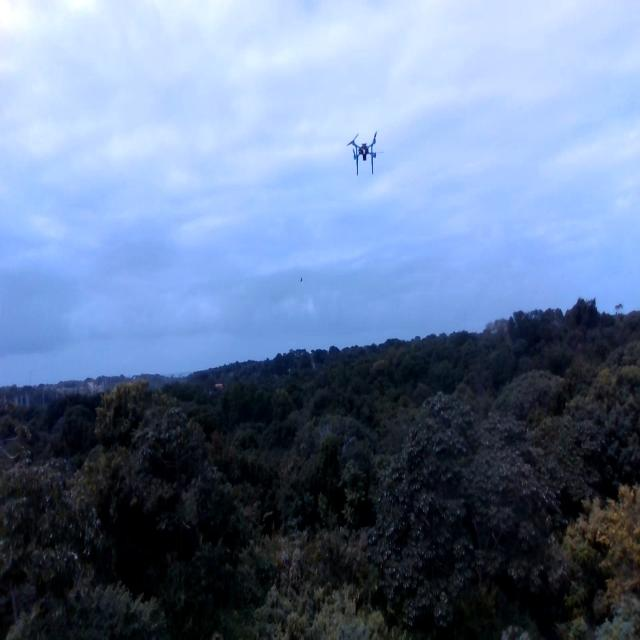-uav-: (341, 128, 393, 190)
